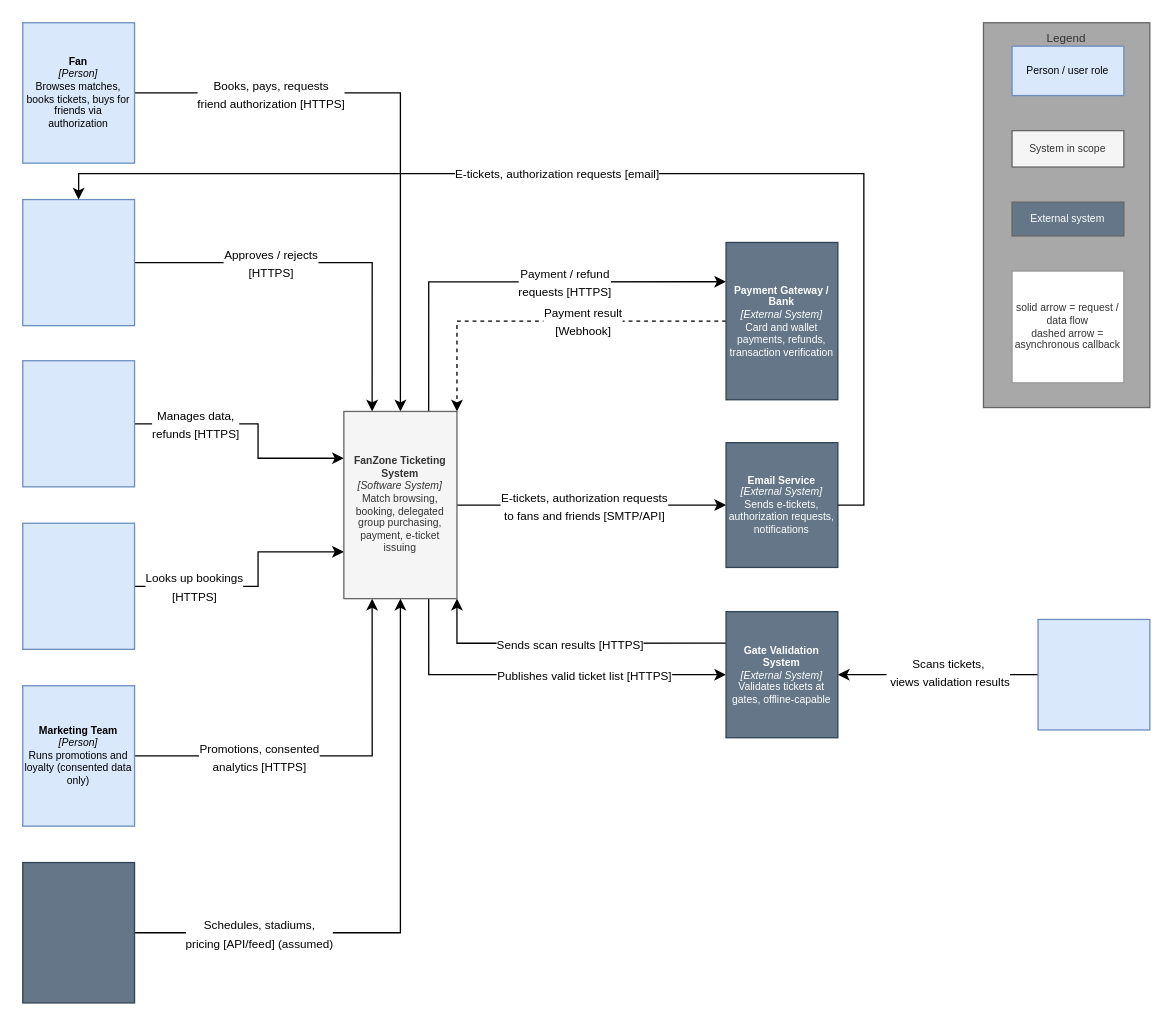
Image size: 1173x1026. Some labels were removed from this diagram. Each missing label, with the centre of its shape:
Admin [Person] Manages matches, stadiums, releases, refunds, logs: pixel 78 423
Authorizing Friend [Person - a Fan] Approves or rejects purchase requests: pixel 78 262
Customer Support [Person] Resolves complaints, refunds, ticket issues: pixel 78 585
EPFCA Data Source [External System] Official schedules, stadium info, pricing: pixel 78 932
Gate Operator [Person] Scans tickets at stadium gate using the gate system: pixel 1093 674
